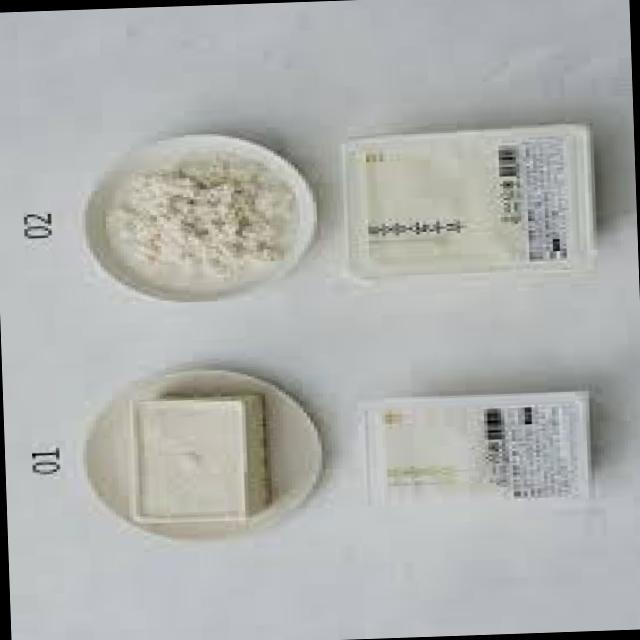tof: (322, 104, 614, 290), (347, 362, 634, 521), (120, 377, 282, 528)
